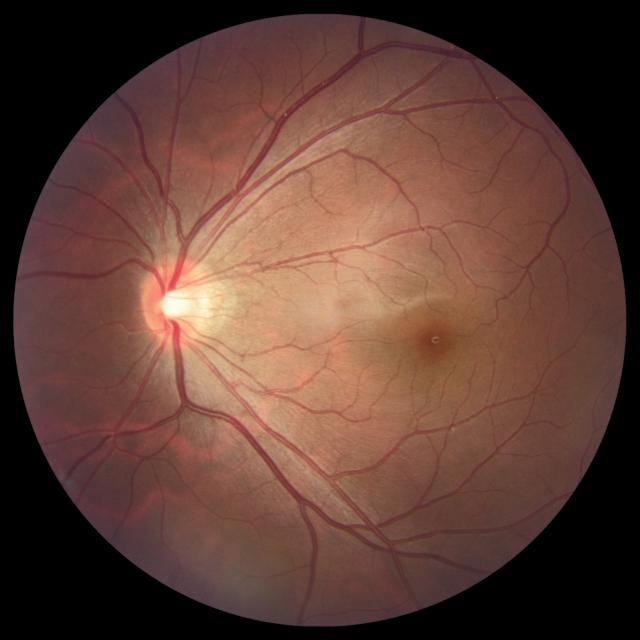OC: (158, 287, 190, 321)
OD: (142, 261, 209, 343)
